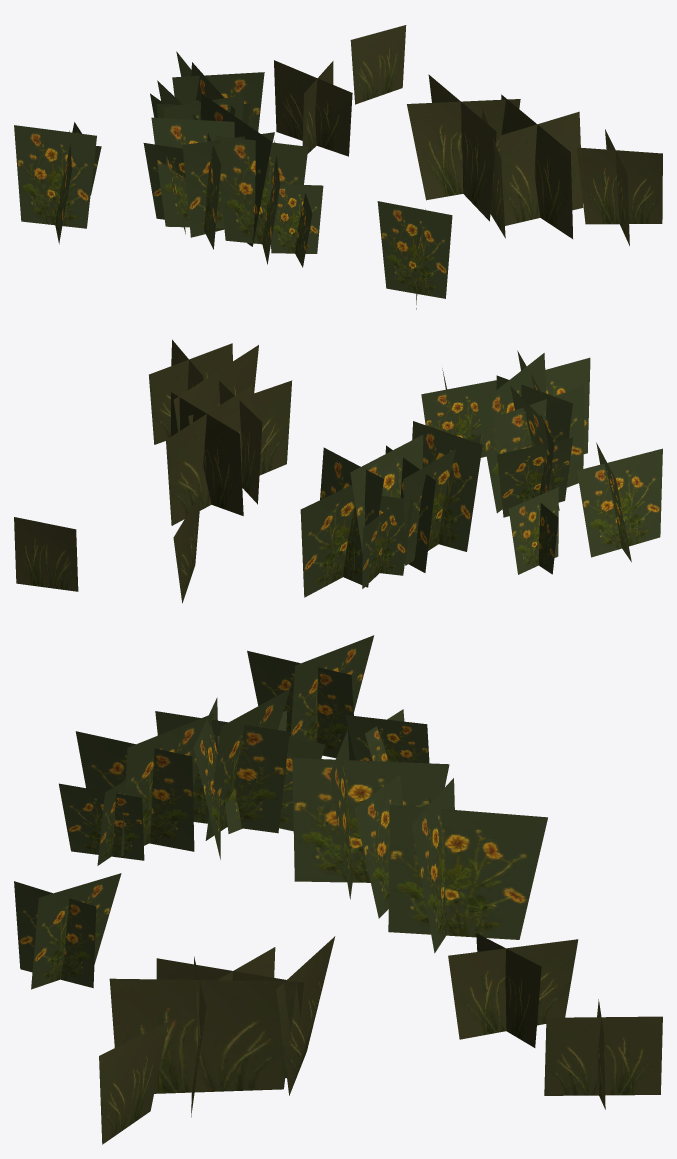
File: 极光世界_凝雾岛_临海山_植物_07.FBX
3 renders of one model, top to bottom at view 1: azimuth 30°, elevation 25°; view 2: azimuth 150°, elevation 25°; view 3: azimuth 270°, elevation 25°, orthographic. The views are drawn at different scales.
Visible parts, largest first — view 1: DrawCall_0329, DrawCall_0330; view 2: DrawCall_0329, DrawCall_0330; view 3: DrawCall_0329, DrawCall_0330.
Part boxes in pixels (<box>): DrawCall_0329: <box>14,51,452,309</box>; DrawCall_0330: <box>274,25,662,246</box>; DrawCall_0329: <box>300,350,662,597</box>; DrawCall_0330: <box>14,339,292,603</box>; DrawCall_0329: <box>14,635,547,989</box>; DrawCall_0330: <box>99,933,662,1144</box>.
Bounding box in the file's own units: 5.19 × 1.49 × 4.35.
